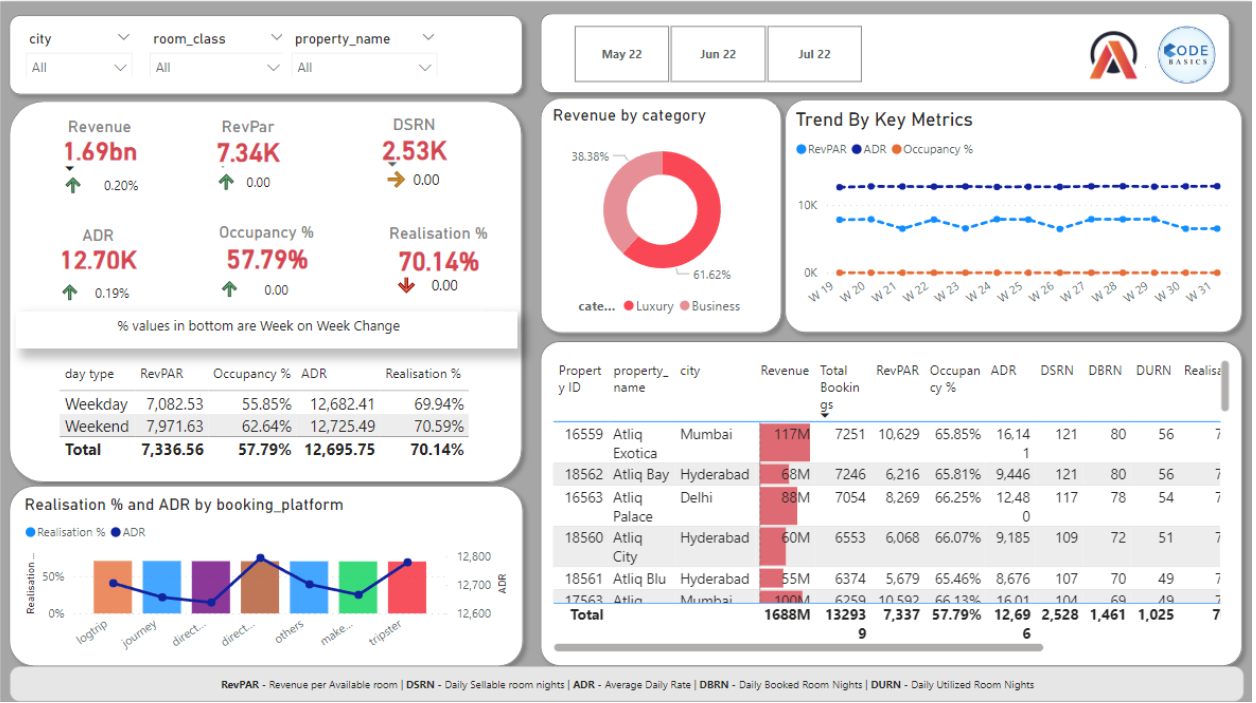

What the dashboard file says about the page in this screenshot:
{"tool":"powerbi","page":{"name":"Page 1","canvas":[1280,720],"ordinal":0},"visuals":[{"type":"shape","box":[0,5,543.3,100],"z":2000},{"type":"slicer","fields":{"Values":["dim_hotels.city"]},"box":[17.1,25.7,128.6,52.9],"z":3000},{"type":"slicer","fields":{"Values":["dim_rooms.room_class"]},"box":[142.9,25.7,158.6,52.9],"z":4000},{"type":"slicer","fields":{"Values":["dim_hotels.property_name"]},"box":[288.6,25.7,168.6,52.9],"z":5000},{"type":"shape","box":[543.3,3.3,723.3,100],"z":6000},{"type":"shape","box":[0,92.9,542.9,410],"z":7000},{"type":"slicer","fields":{"Values":["dim_date.mmm yy"]},"box":[561.7,18.3,343.3,71.7],"z":8000},{"type":"image","box":[1095,11.7,81.7,86.7],"z":9000},{"type":"image","box":[1176.7,15,73.3,80],"z":10000},{"type":"tableEx","title":"dfdfddffdfd","fields":{"Values":["key_measures.Revpar WoW change %"]},"box":[211.7,141.7,106.7,61.7],"z":11000},{"type":"card","title":"RevPar","fields":{"Values":["key_measures.RevPAR"]},"box":[188.3,118.3,130,51.7],"z":12000},{"type":"card","title":"DSRN","fields":{"Values":["key_measures.DSRN"]},"box":[358.3,116.7,130,51.7],"z":13000},{"type":"tableEx","fields":{"Values":["key_measures.DSRN WoW change %"]},"box":[385,141.7,103.3,65],"z":14000},{"type":"tableEx","title":"dfdfddffdfd","fields":{"Values":["key_measures.ADR WoW change %"]},"box":[51.7,255,113.3,60],"z":15000},{"type":"tableEx","title":"dfdfddffdfd","fields":{"Values":["key_measures.Revenue WoW change %"]},"box":[55,145,146.7,98.3],"z":16000},{"type":"card","title":"ADR","fields":{"Values":["key_measures.ADR"]},"box":[35,230,130,50],"z":17000},{"type":"tableEx","title":"dfdfddffdfd","fields":{"Values":["key_measures.Occupancy WoW change %"]},"box":[215,251.7,115,61.7],"z":18000},{"type":"card","title":"Occupancy %","fields":{"Values":["key_measures.Occupancy %"]},"box":[213.3,226.7,118.3,55],"z":19000},{"type":"tableEx","title":"dfdfddffdfd","fields":{"Values":["key_measures.Realisation WoW change %"]},"box":[395,246.7,133.3,75],"z":20000},{"type":"card","title":"Realisation %","fields":{"Values":["key_measures.Realisation %"]},"box":[388.3,228.3,120,55],"z":21000},{"type":"card","title":"Revenue","fields":{"Values":["key_measures.Revenue"]},"box":[36.7,118.3,130,50],"z":22000},{"type":"shape","box":[0,488,544,204],"z":23000},{"type":"tableEx","fields":{"Values":["dim_date.day type","key_measures.RevPAR","key_measures.Occupancy %","key_measures.ADR","key_measures.Realisation %"]},"box":[55.7,367.1,432.9,115.7],"z":24000},{"type":"shape","box":[16.7,318.3,511.7,38.3],"z":25000},{"type":"textbox","box":[33.3,318.3,461.7,36.7],"z":26000},{"type":"lineStackedColumnComboChart","fields":{"Y":["key_measures.Realisation %"],"Y2":["key_measures.ADR"],"Category":["fact_bookings.booking_platform"]},"box":[20,506,504,170],"z":26001},{"type":"shape","box":[543.3,90,265,260],"z":26002},{"type":"shape","box":[794,92,486,258],"z":26003},{"type":"donutChart","fields":{"Y":["key_measures.Revenue"],"Category":["dim_hotels.category"]},"box":[560,106.7,233.3,225],"z":26004},{"type":"lineChart","title":"Trend By Key Metrics","fields":{"Category":["dim_date.mmm yy.Variation.Date Hierarchy.Month","dim_date.week no"],"Y":["key_measures.RevPAR","key_measures.ADR","key_measures.Occupancy %"]},"box":[808,110,454,222],"z":26005},{"type":"shape","box":[544,340,736,352],"z":26006},{"type":"tableEx","fields":{"Values":["dim_hotels.property_id","dim_hotels.property_name","dim_hotels.city","key_measures.Revenue","key_measures.Total Bookings","key_measures.RevPAR","key_measures.Occupancy %","key_measures.ADR","key_measures.DSRN","key_measures.DBRN","key_measures.DURN","key_measures.Realisation %"]},"box":[560,364,702,310],"z":26007},{"type":"textbox","box":[10,684,1262,36],"z":26008}]}

Visuals, with their boxes in screenshot pixels (x1, y1, x2, y2), scaled from the page's 1280x720 canvas onto the 1256x703 screenshot:
shape: x1=0, y1=5, x2=533, y2=103
slicer - dim_hotels.city: x1=17, y1=25, x2=143, y2=77
slicer - dim_rooms.room_class: x1=140, y1=25, x2=296, y2=77
slicer - dim_hotels.property_name: x1=283, y1=25, x2=449, y2=77
shape: x1=533, y1=3, x2=1243, y2=101
shape: x1=0, y1=91, x2=533, y2=491
slicer - dim_date.mmm yy: x1=551, y1=18, x2=888, y2=88
image: x1=1074, y1=11, x2=1155, y2=96
image: x1=1155, y1=15, x2=1227, y2=93
"dfdfddffdfd" tableEx: x1=208, y1=138, x2=312, y2=199
"RevPar" card: x1=185, y1=116, x2=312, y2=166
"DSRN" card: x1=352, y1=114, x2=479, y2=164
tableEx - key_measures.DSRN WoW change %: x1=378, y1=138, x2=479, y2=202
"dfdfddffdfd" tableEx: x1=51, y1=249, x2=162, y2=308
"dfdfddffdfd" tableEx: x1=54, y1=142, x2=198, y2=238
"ADR" card: x1=34, y1=225, x2=162, y2=273
"dfdfddffdfd" tableEx: x1=211, y1=246, x2=324, y2=306
"Occupancy %" card: x1=209, y1=221, x2=325, y2=275
"dfdfddffdfd" tableEx: x1=388, y1=241, x2=518, y2=314
"Realisation %" card: x1=381, y1=223, x2=499, y2=277
"Revenue" card: x1=36, y1=116, x2=164, y2=164
shape: x1=0, y1=476, x2=534, y2=676
tableEx - dim_date.day type x key_measures.RevPAR: x1=55, y1=358, x2=479, y2=471
shape: x1=16, y1=311, x2=518, y2=348
textbox: x1=33, y1=311, x2=486, y2=347
lineStackedColumnComboChart - key_measures.Realisation % x key_measures.ADR: x1=20, y1=494, x2=514, y2=660
shape: x1=533, y1=88, x2=793, y2=342
shape: x1=779, y1=90, x2=1255, y2=342
donutChart - key_measures.Revenue x dim_hotels.category: x1=550, y1=104, x2=778, y2=324
"Trend By Key Metrics" lineChart: x1=793, y1=107, x2=1238, y2=324
shape: x1=534, y1=332, x2=1255, y2=676
tableEx - dim_hotels.property_id x dim_hotels.property_name: x1=550, y1=355, x2=1238, y2=658
textbox: x1=10, y1=668, x2=1248, y2=702
